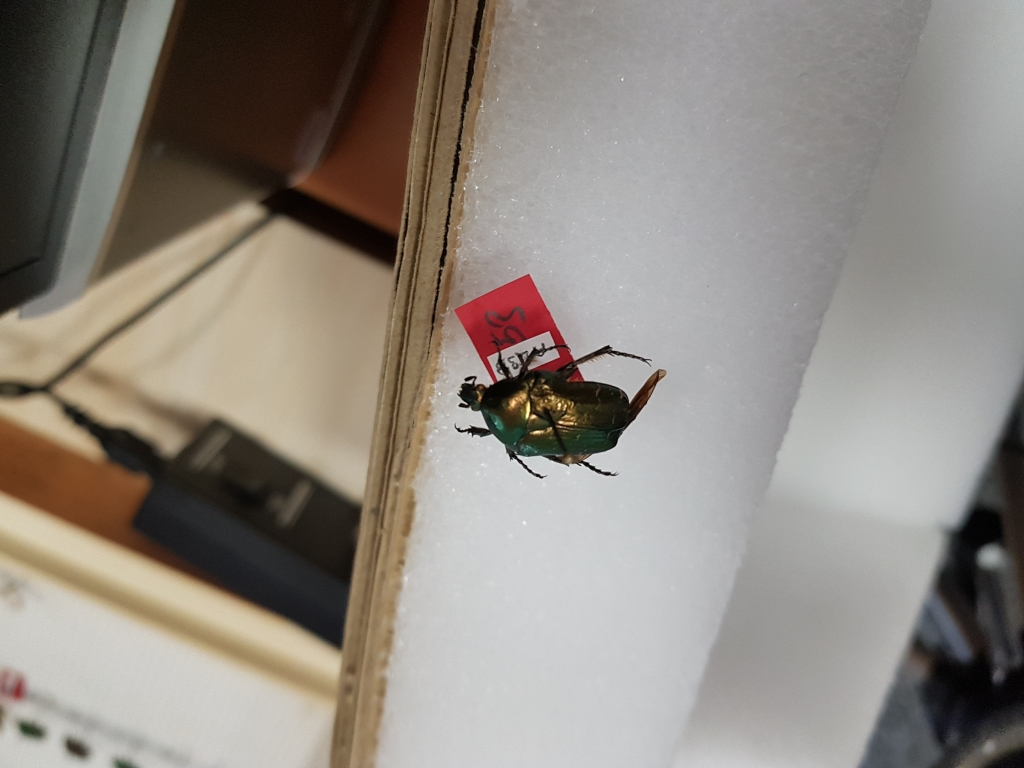Cetonia_kemali: (447, 335, 675, 494)
